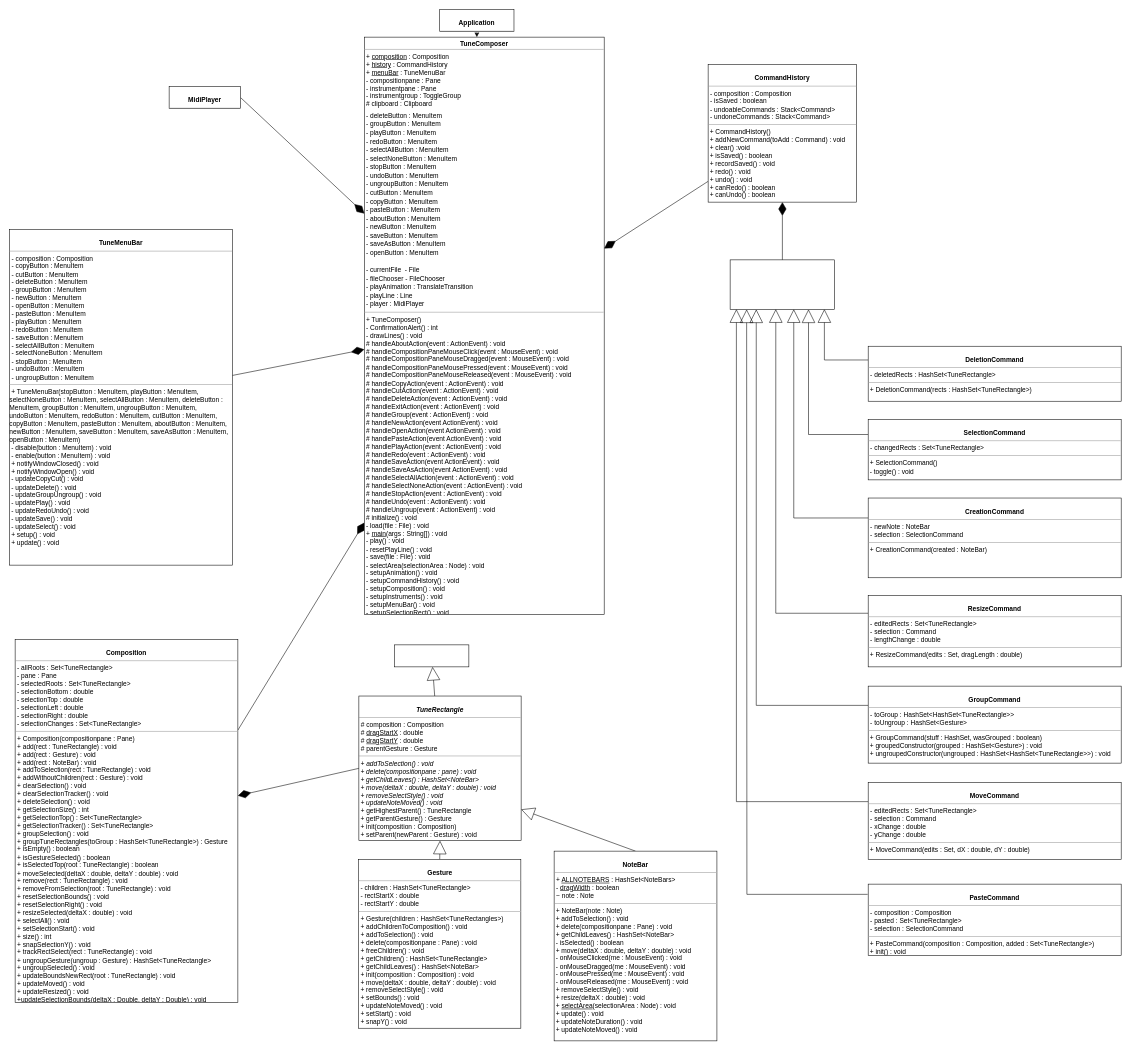
Image size: 1131x1051. Some labels were removed from this diagram. Each missing label, with the box of its shape:
<<Interface>> Command + execute() : void + unexecute() : void: (730, 259, 835, 309)
Rectangle: (394, 644, 469, 667)
